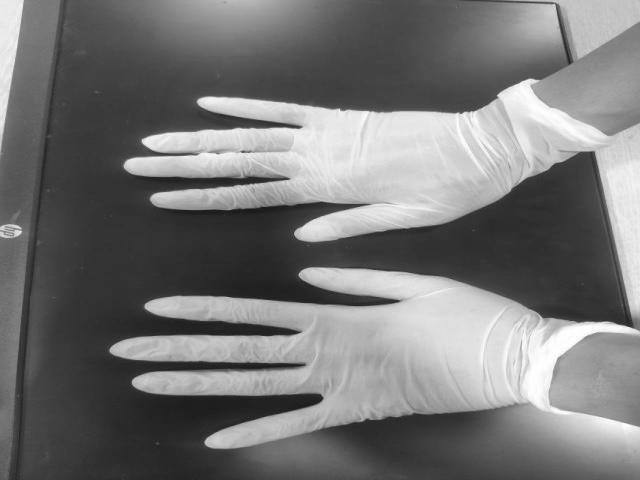gloved: (114, 263, 526, 448), (121, 92, 503, 243)
